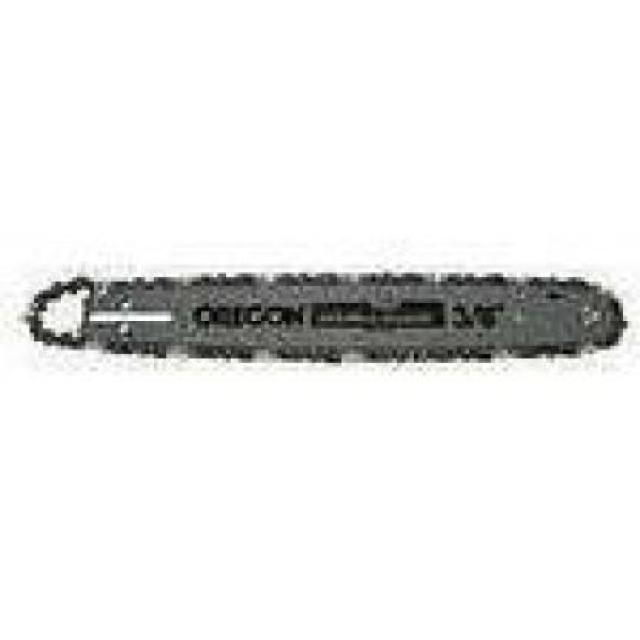Chainsaw: (26, 270, 620, 358)
